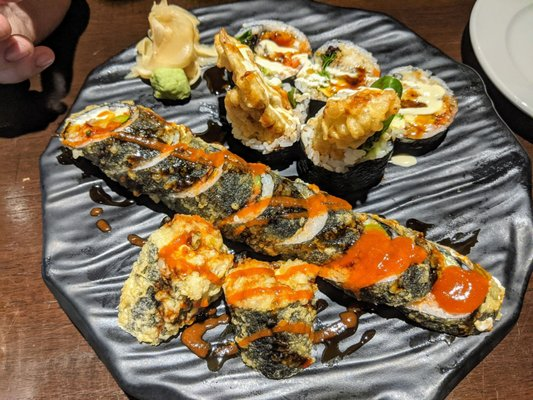curry: (19, 1, 533, 398)
sandwich: (52, 99, 497, 382), (117, 214, 237, 347)
